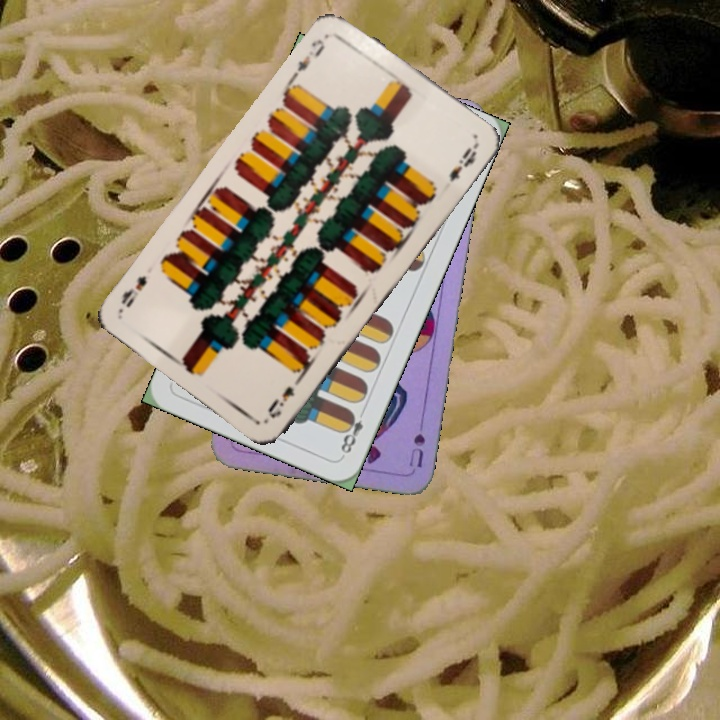E8: (336, 403, 369, 459)
E9: (263, 372, 305, 421), (289, 35, 328, 80)
SU: (405, 411, 428, 471)
